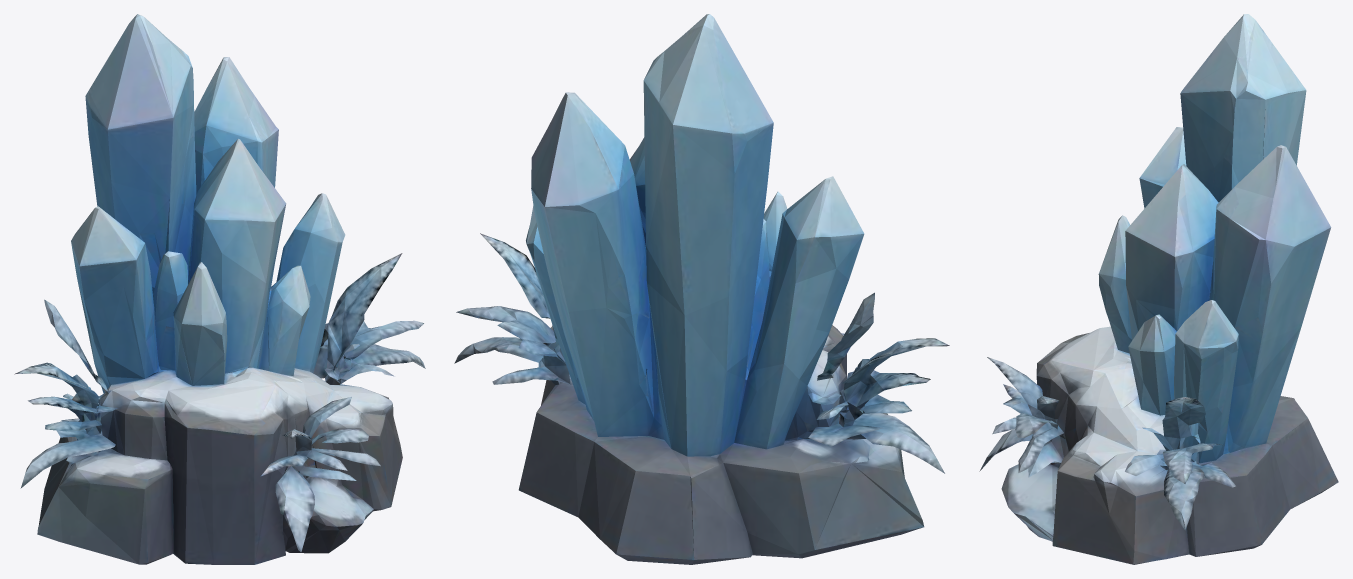
File: d_givre_cristaux_v2.glb
3 renders of one model, left to right at view 1: azimuth 30°, elevation 25°; view 2: azimuth 150°, elevation 25°; view 3: azimuth 270°, elevation 25°, orthographic. The views are drawn at different scales.
Visible parts, largest first — view 1: geometry_0; view 2: geometry_0; view 3: geometry_0.
Part boxes in pixels (bbox=[...]): geometry_0: bbox=[14, 14, 425, 564]; geometry_0: bbox=[454, 14, 949, 564]; geometry_0: bbox=[979, 14, 1338, 564].
Bounding box in the file's own units: 0.931 × 1 × 0.6844.
Materials: 1 (1 with a texture image).
